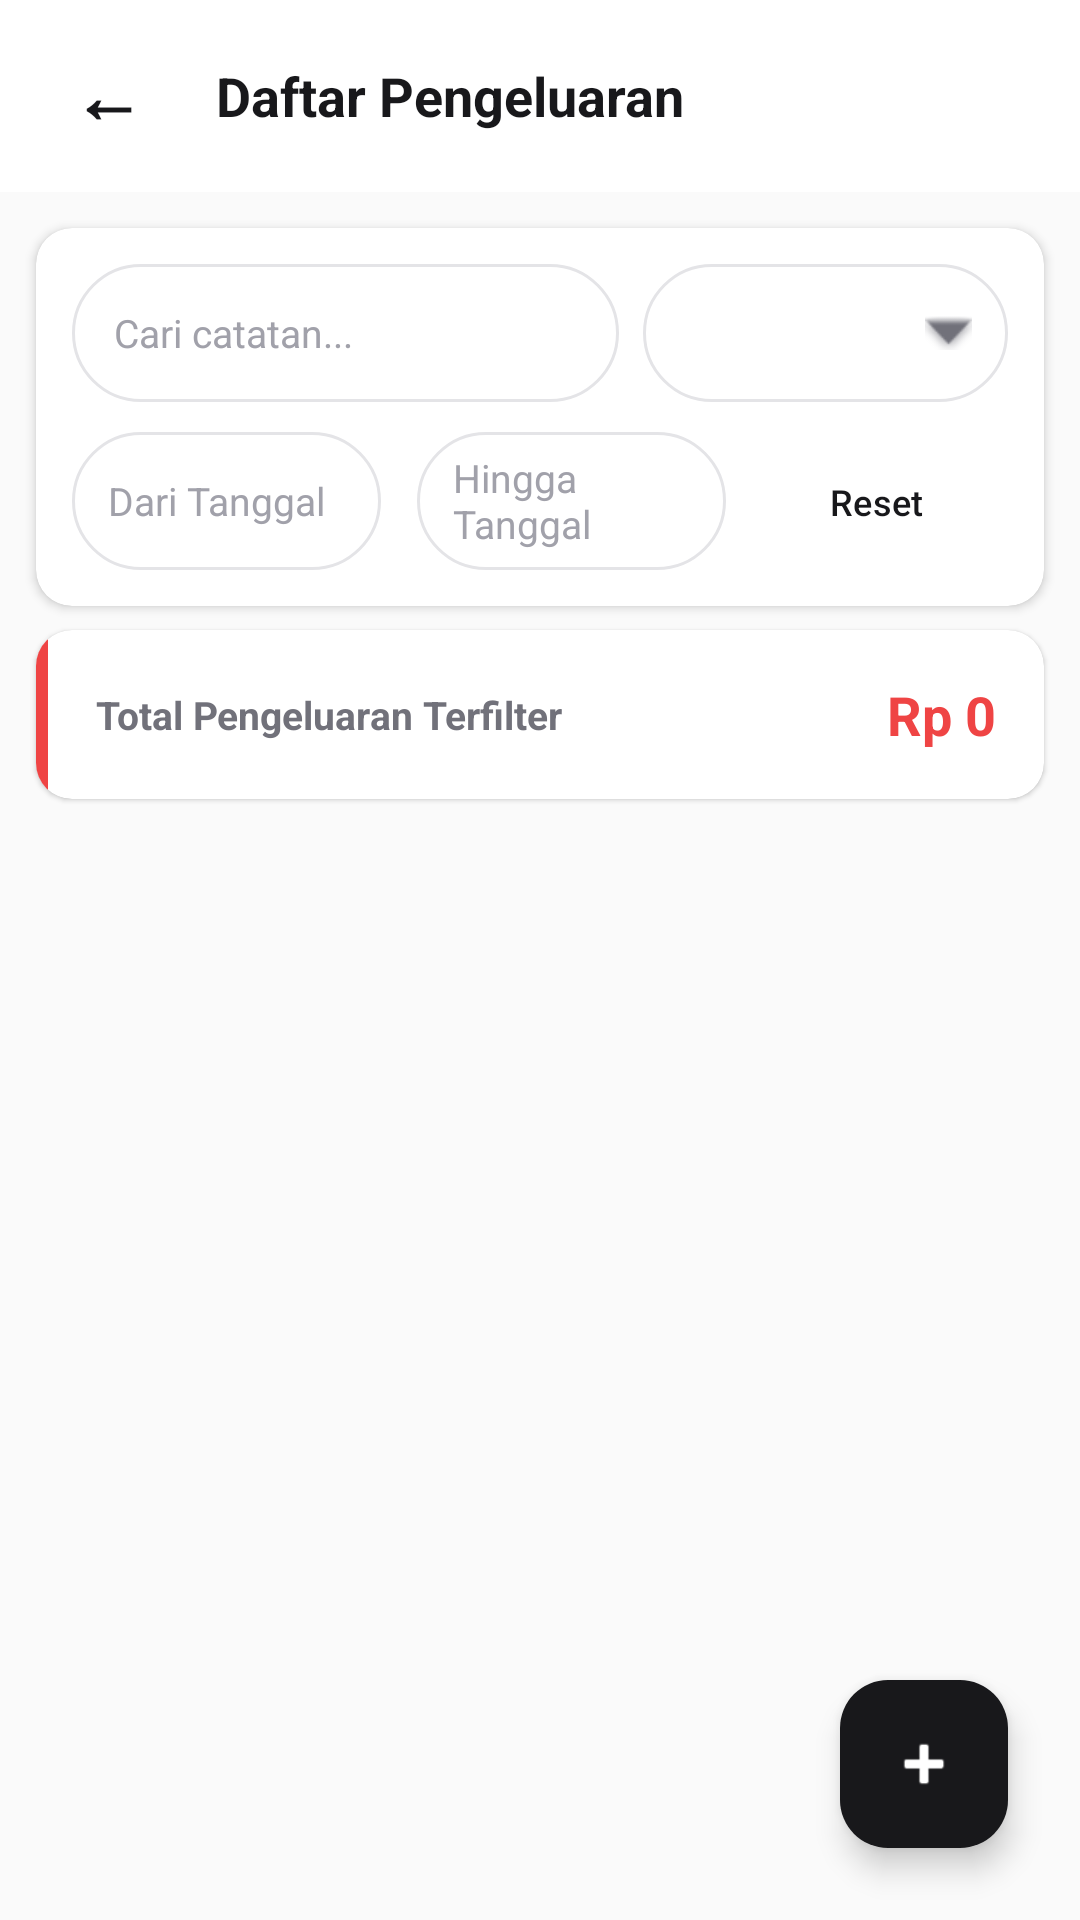

Point at icon controls on the screen. Image size 1080px x 1920px, points as (x=x, y=y).
Tambah Pengeluaran: (x=924, y=1764)
